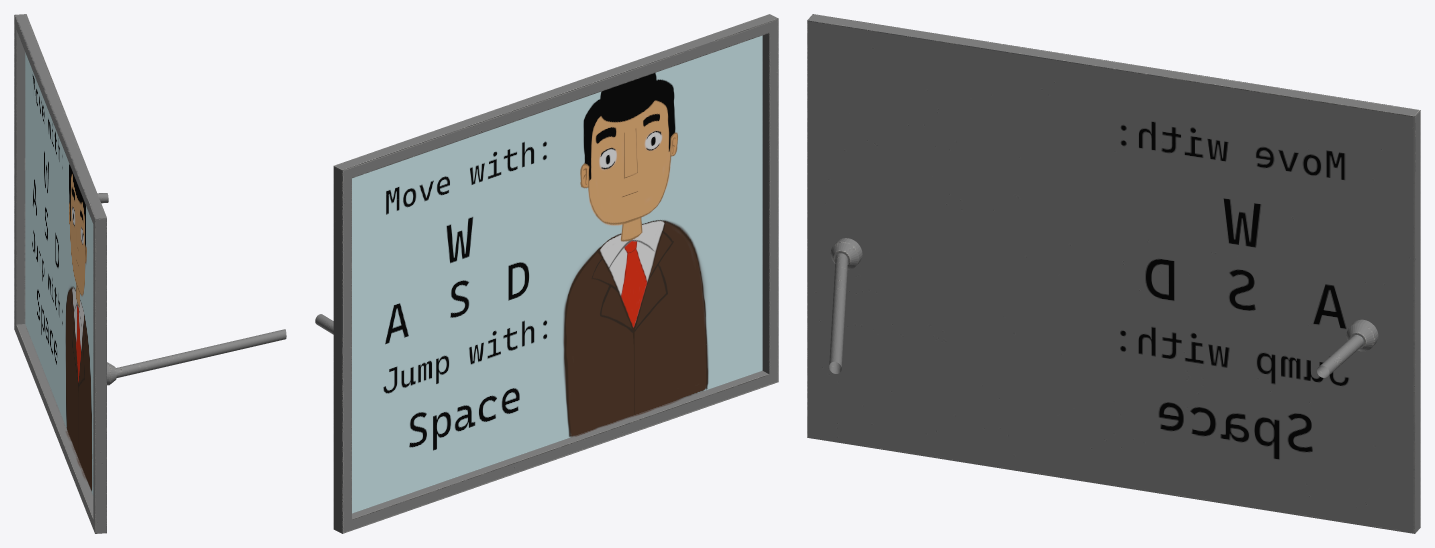
File: Pantalla tuto Unity1.fbx
The picture shows the model from 3 angles, left to right: view 1: azimuth 30°, elevation 25°; view 2: azimuth 150°, elevation 25°; view 3: azimuth 270°, elevation 25°; orthographic projection. The views are drawn at different scales.
Visible parts, largest first — view 1: Cube.009; view 2: Cube.009; view 3: Cube.009.
Part boxes in pixels (left/top/right/bottom): Cube.009: left=14, top=14, right=286, bottom=533; Cube.009: left=315, top=14, right=778, bottom=533; Cube.009: left=807, top=14, right=1420, bottom=533.
Bounding box in the file's own units: 373 × 544 × 724.
